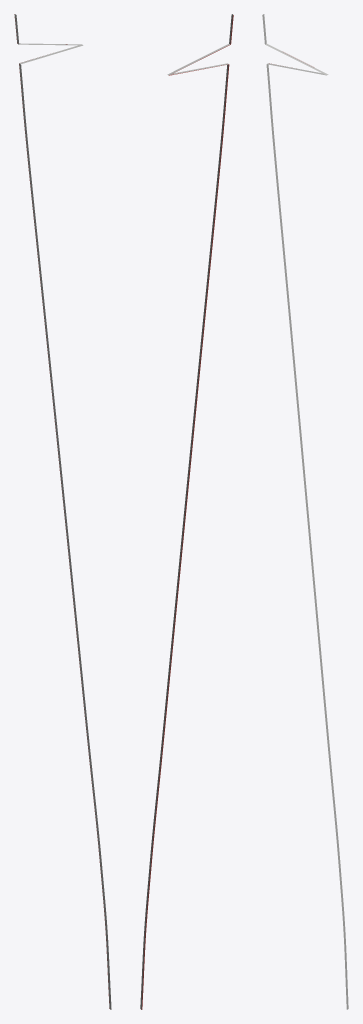
Rendered from Pit_Wall.fbx.
3 renders of one model, left to right at view 1: azimuth 30°, elevation 25°; view 2: azimuth 210°, elevation 25°; view 3: azimuth 330°, elevation 25°, orthographic. The views are drawn at different scales.
Visible parts, largest first — view 1: Pit_Wall; view 2: Pit_Wall; view 3: Pit_Wall.
Part boxes in pixels (left/top/right/bottom): Pit_Wall: left=14, top=14, right=111, bottom=1009; Pit_Wall: left=140, top=14, right=233, bottom=1009; Pit_Wall: left=262, top=14, right=348, bottom=1009.
Size of the model in its own units: 3820 by 360 by 40219.
